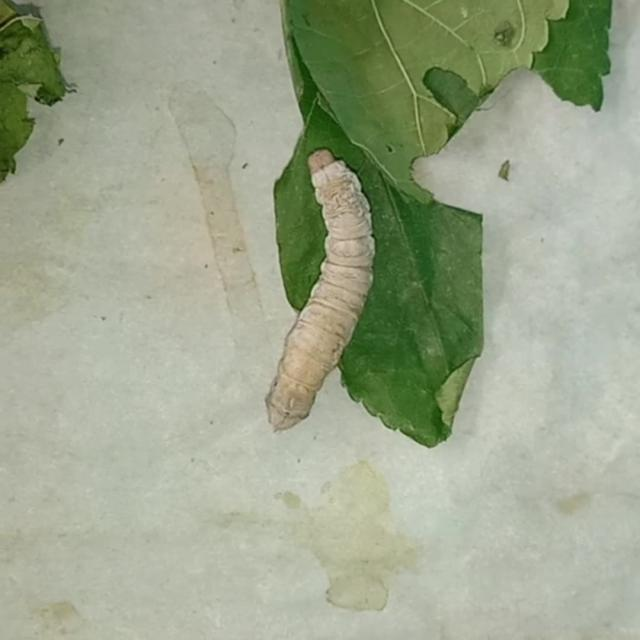Grasserie: (254, 120, 426, 462)
